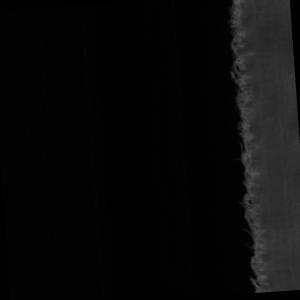Damage: (228, 1, 276, 294)
